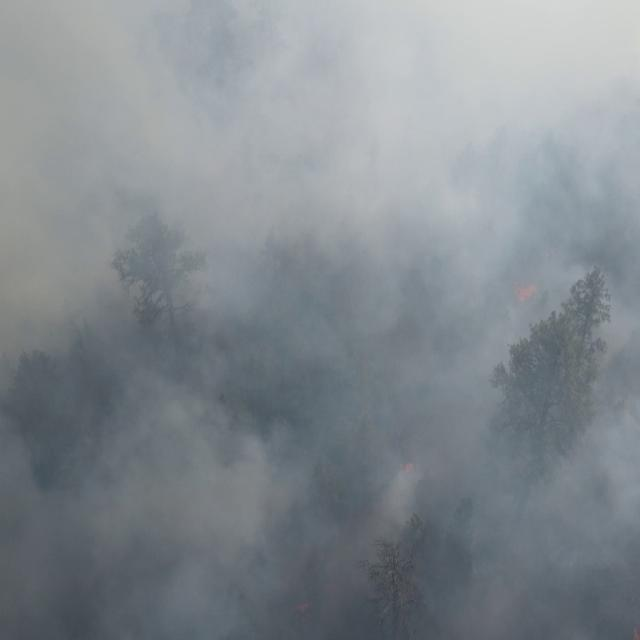fire: (512, 280, 536, 306), (400, 460, 416, 475), (292, 601, 312, 613), (630, 624, 640, 640)
smoke: (0, 0, 640, 640)
